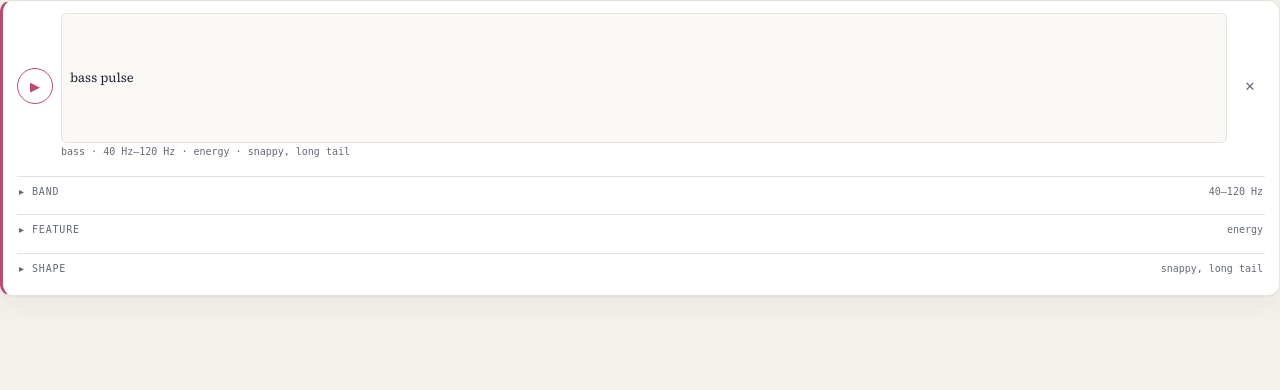
SignalCardView › opening `shape` reveals the six sliders and invert
Click the button with class "sig-sec-head" showing "▸ shape snappy, long tail" at x=49, y=268, box [17, 254, 1265, 283]
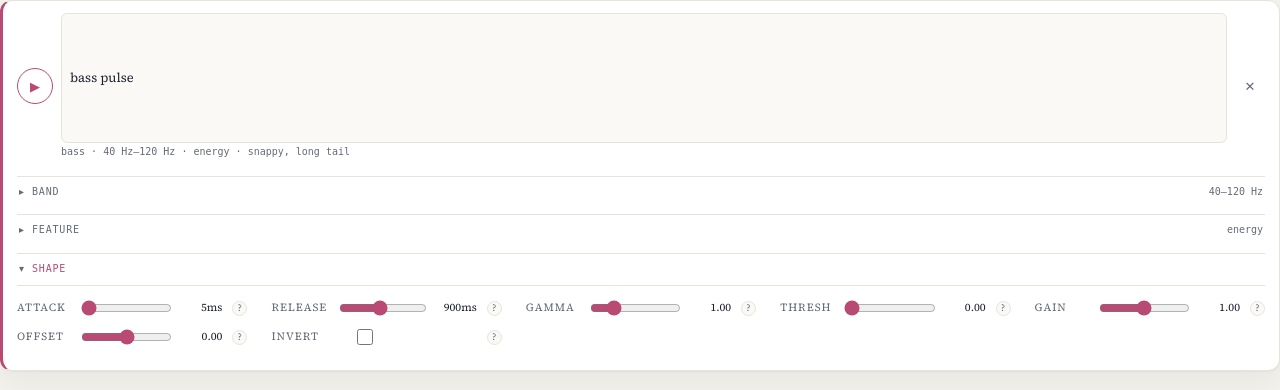
Result: the number of sliders is 6 at [81, 300, 172, 316]; [339, 300, 427, 316]; [590, 300, 681, 316]; [844, 300, 936, 316]; [1099, 300, 1190, 316]; [81, 329, 172, 345]
Result: the checkbox labelled "invert ?" is shown at [357, 329, 373, 345]
